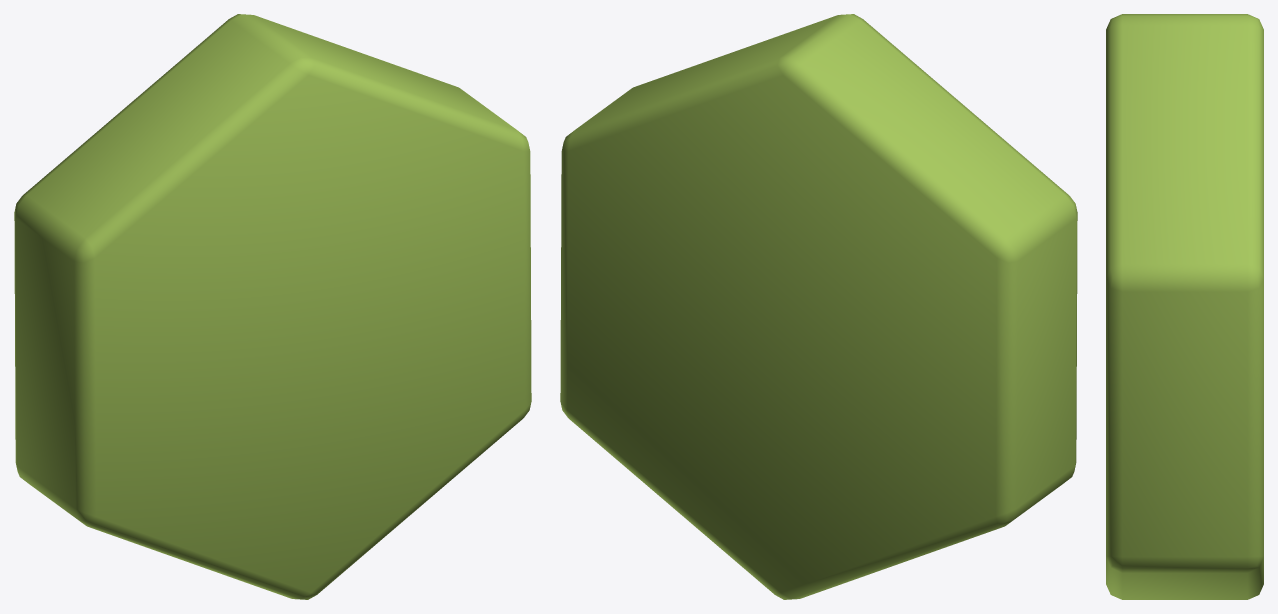
The model's file is greenTile.fbx.
3 views of the same model, side by side, from view 1: azimuth 30°, elevation 25°; view 2: azimuth 150°, elevation 25°; view 3: azimuth 270°, elevation 25° (orthographic). The views are drawn at different scales.
Parts seen in each view (by area): view 1: Cylinder.109; view 2: Cylinder.109; view 3: Cylinder.109.
Boxes of the visible parts, box(x1,y1,x2,y2) form: Cylinder.109: box(14, 14, 531, 599); Cylinder.109: box(560, 14, 1077, 599); Cylinder.109: box(1106, 14, 1263, 599).
Bounding box in the file's own units: 1.04 × 1.18 × 0.2907.
